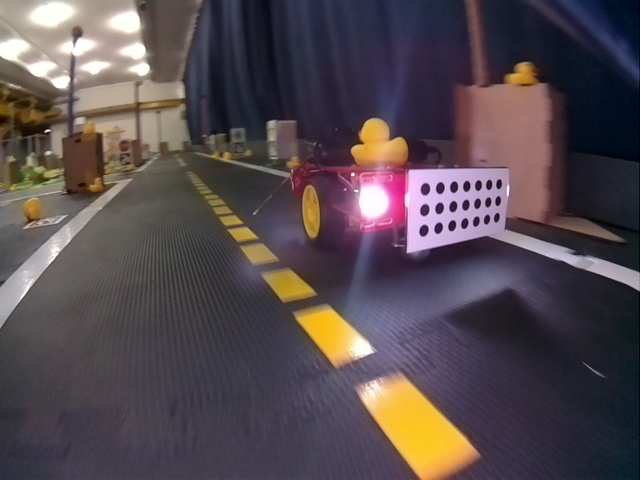Duckie: (353, 121, 408, 165), (506, 62, 537, 83), (21, 199, 37, 220), (88, 177, 104, 192), (286, 157, 300, 168), (84, 120, 96, 131)
Duckiebot: (290, 160, 509, 254)
QR code: (23, 215, 69, 229)
